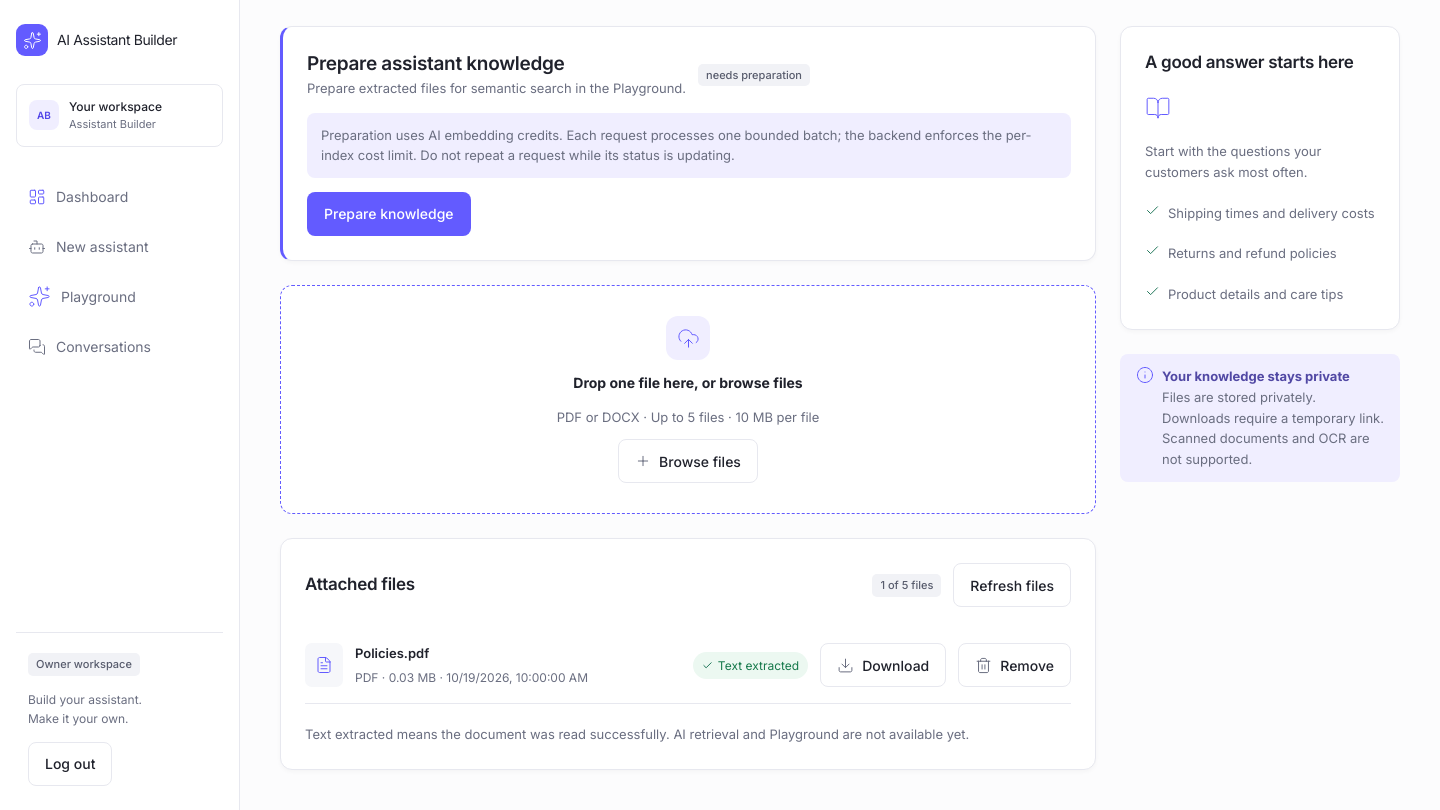
Test: knowledge UX › clears owner data on 401 without replaying a mutation
(page scrolled)
Expected: the text "Text extracted" is shown, [693, 652, 808, 679]
What coordinates should you click on to do the following:
click the button with aria-label "Download Policies.pdf"
I would click on:
 (883, 665)
Its box is [820, 643, 946, 687].
(page scrolled)
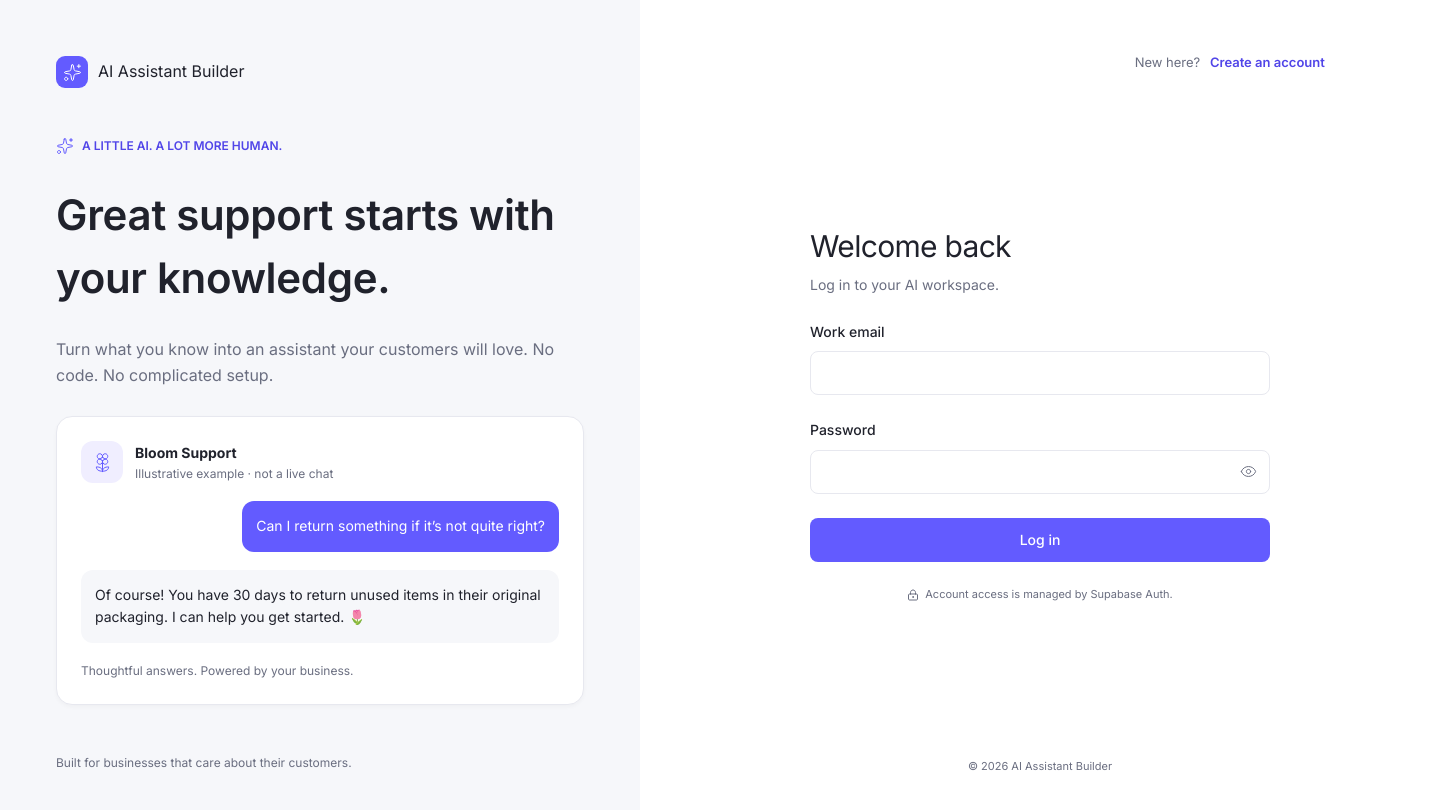
Now the heading "Welcome back" is shown, box [810, 228, 1011, 264]
Now the heading "Policies.pdf" is gone
